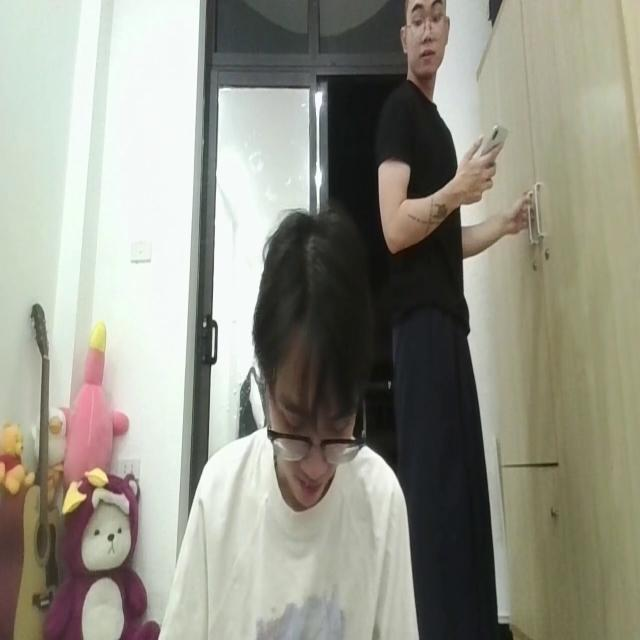extra_person: (371, 0, 517, 640)
phone: (477, 117, 508, 166)
student: (162, 201, 416, 640)
